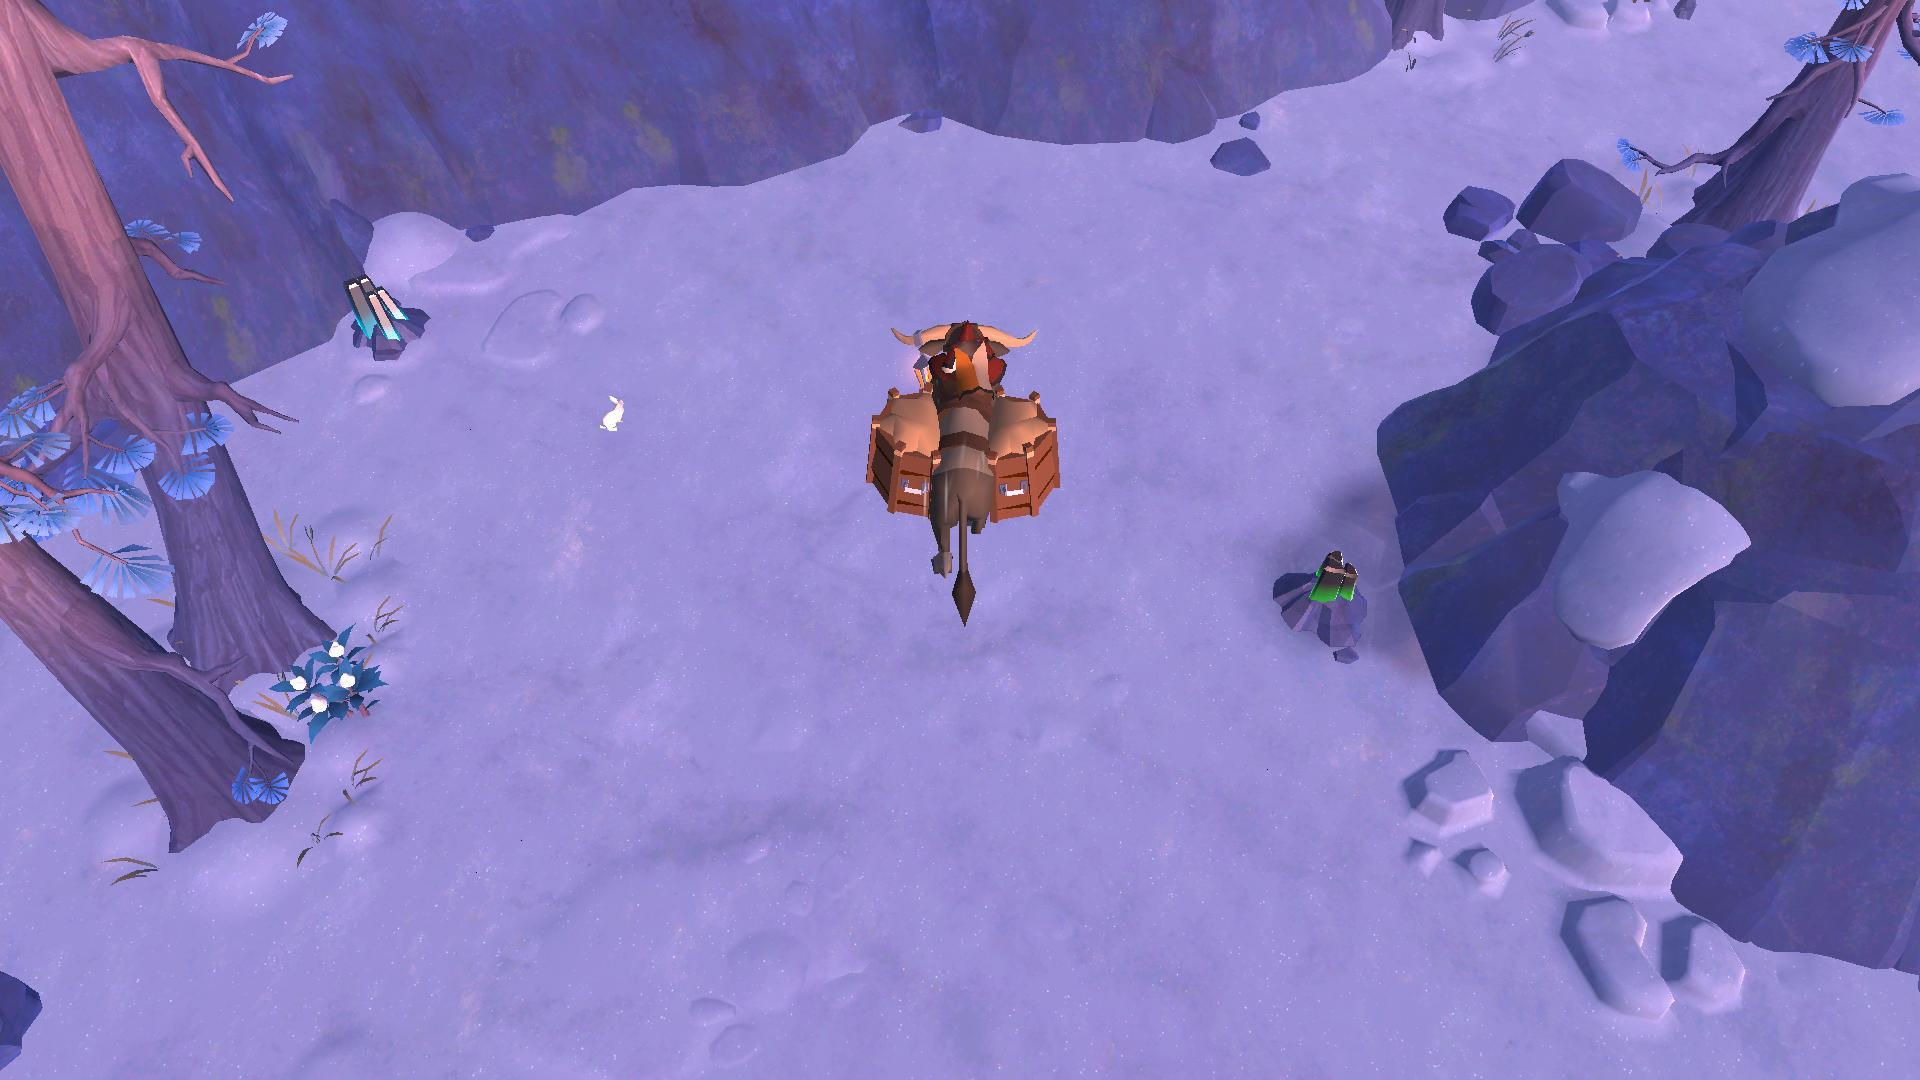fiber_t4: (272, 630, 392, 729)
ore_t3: (1304, 541, 1362, 608)
ore_t4: (339, 273, 411, 349)
